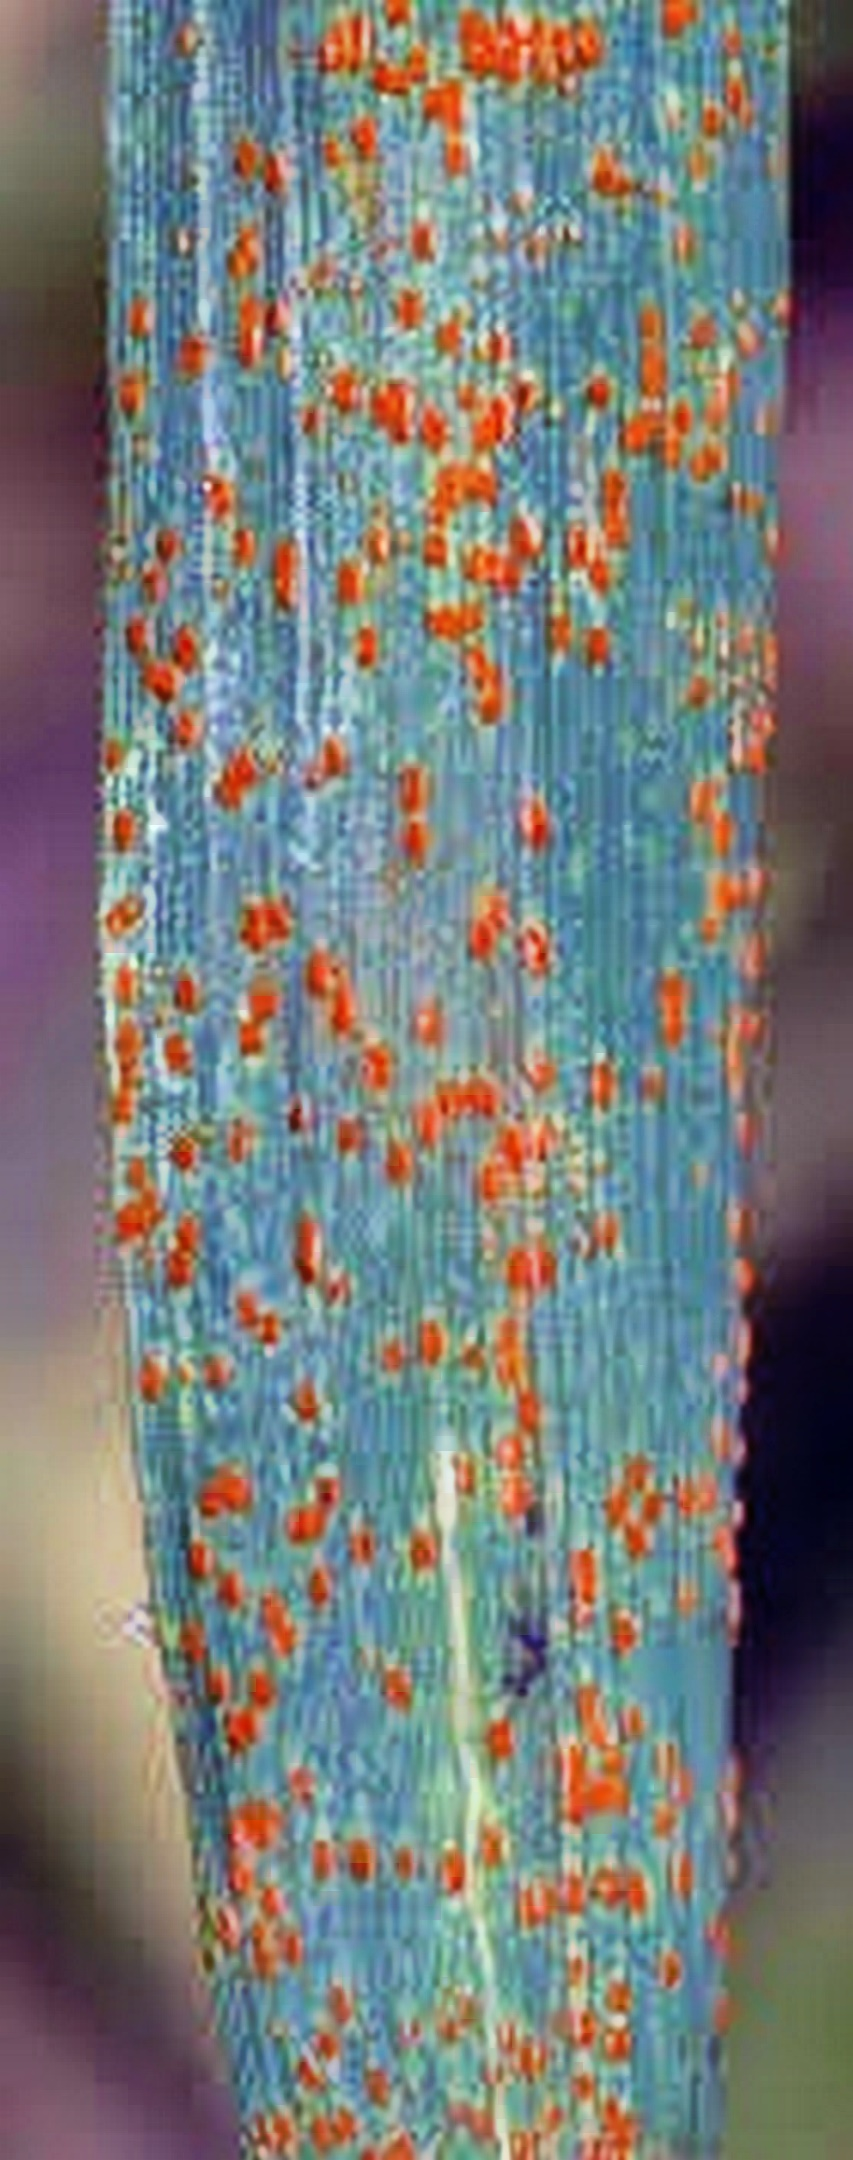Leaf Rust: (74, 123, 832, 2066)
